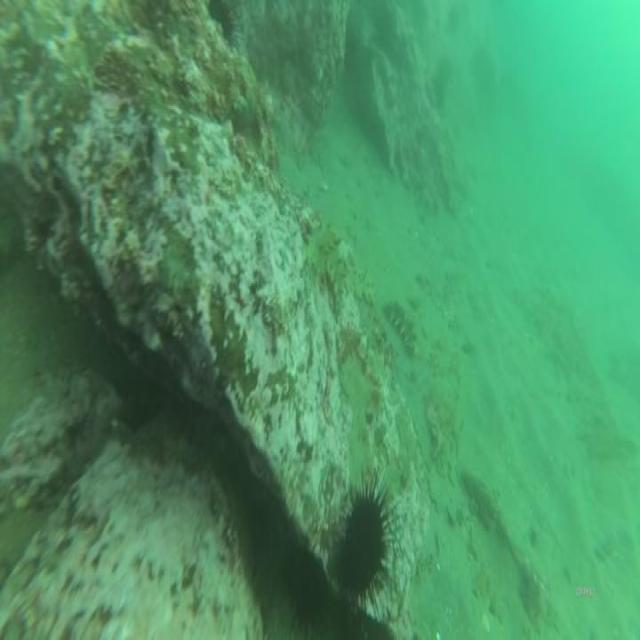echinus: (334, 463, 406, 624)
holothurian: (307, 220, 348, 314), (383, 297, 423, 364)
